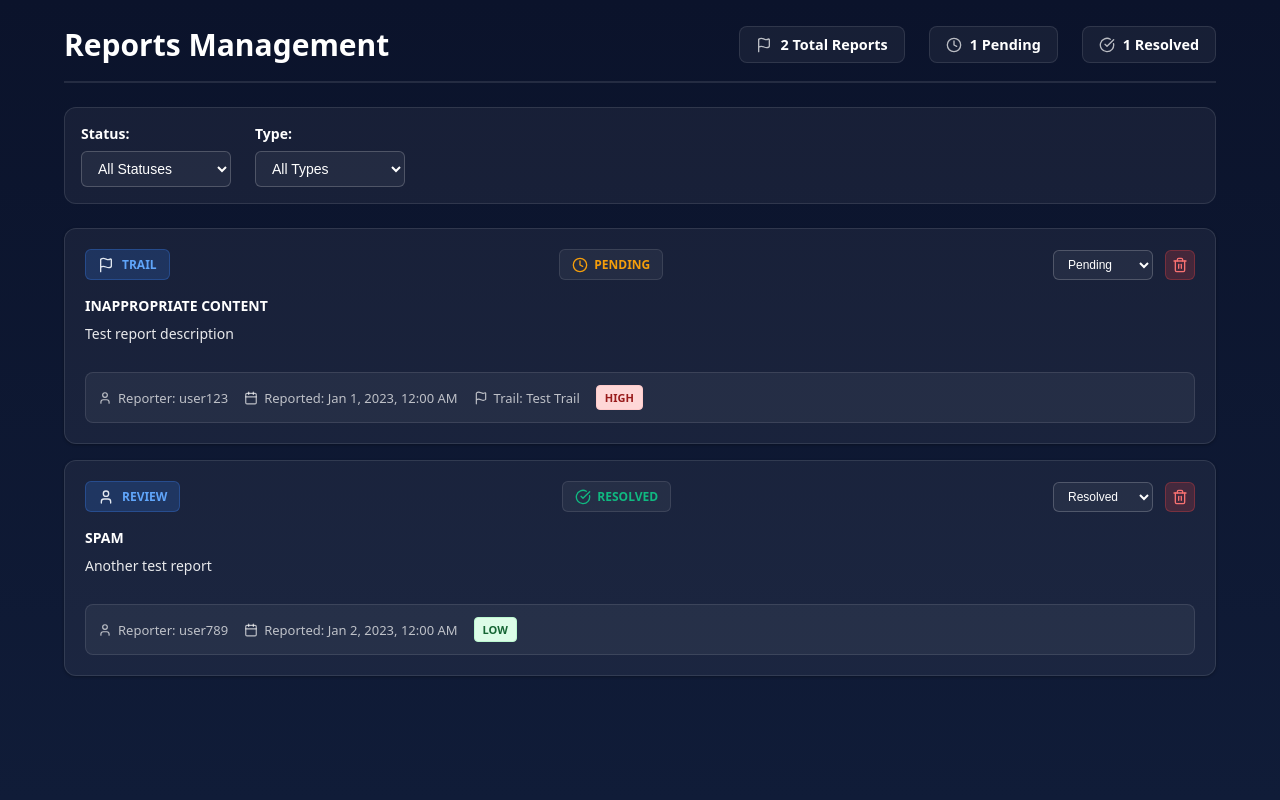
it: ReportsManagement › filters reports by type
expect the text "2 Total Reports" is shown: met, box x1=780 y1=35 x2=888 y2=54
Select "Trail" in the dropdown labelled "Type:" at {"x": 330, "y": 169}, box x1=255 y1=151 x2=405 y2=187
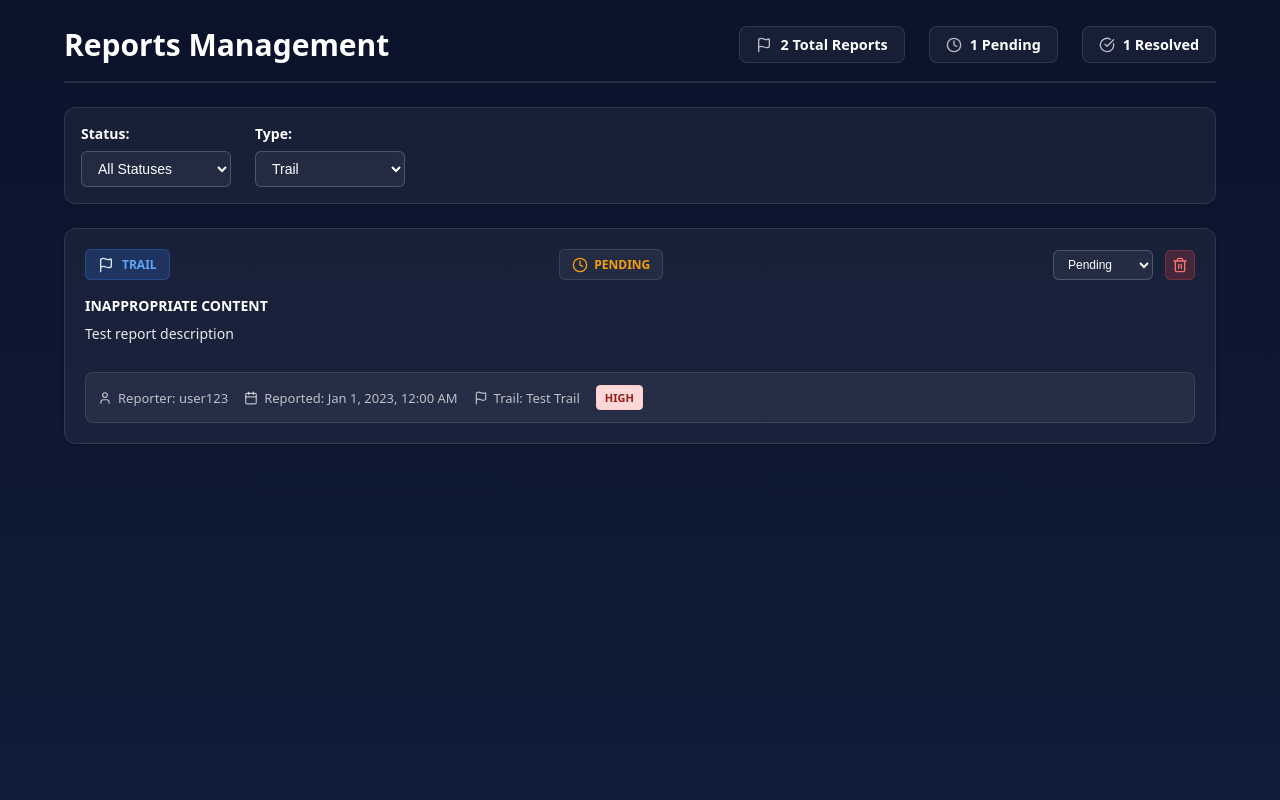
expect the text "Test report description" is shown: met, box x1=85 y1=324 x2=234 y2=343
expect the text "Another test report" is gone: met
